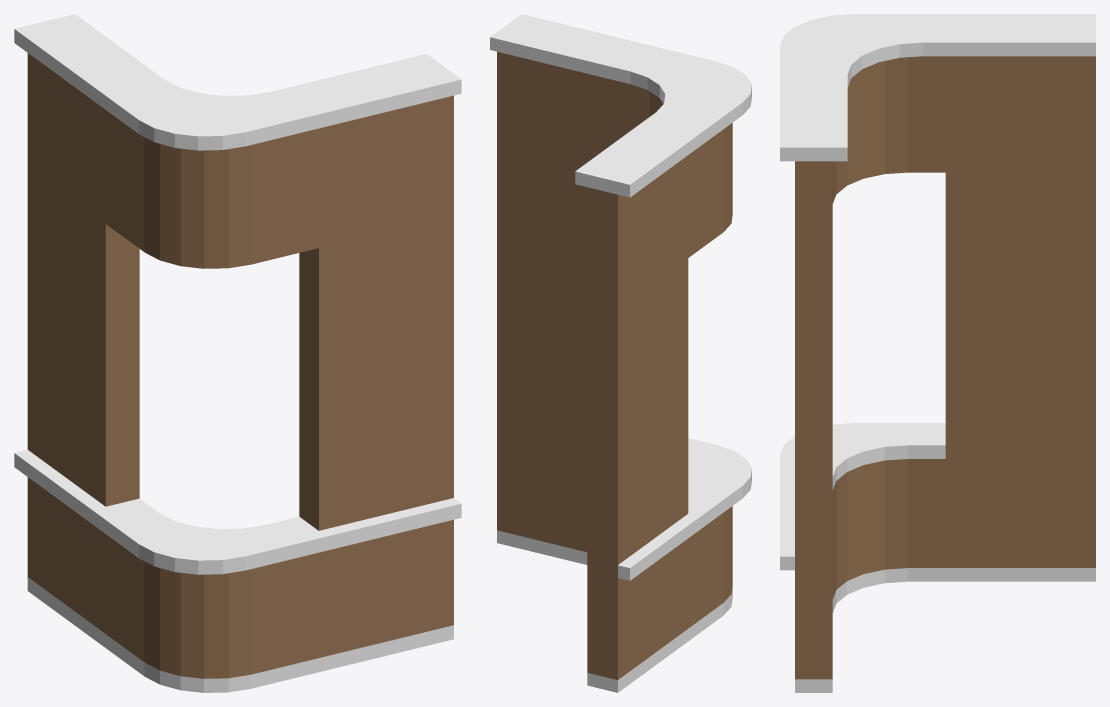
Rendered from SM_4x4m_Window_CurveCorner.fbx.
3 views of the same model, side by side, from view 1: azimuth 30°, elevation 25°; view 2: azimuth 150°, elevation 25°; view 3: azimuth 270°, elevation 25° (orthographic). The views are drawn at different scales.
Parts seen in each view (by area): view 1: SM_4x4m_Window_CurveCorner.001; view 2: SM_4x4m_Window_CurveCorner.001; view 3: SM_4x4m_Window_CurveCorner.001.
Boxes of the visible parts, box(x1,y1,x2,y2) form: SM_4x4m_Window_CurveCorner.001: box(14, 14, 461, 692); SM_4x4m_Window_CurveCorner.001: box(490, 14, 751, 692); SM_4x4m_Window_CurveCorner.001: box(780, 14, 1095, 692).
Size of the model in its own units: 210 by 210 by 400.
